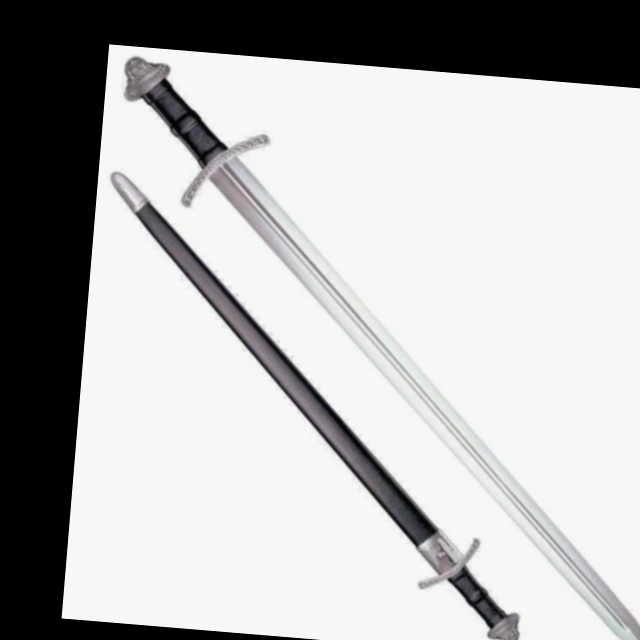Sharp-Object: (75, 55, 640, 640)
